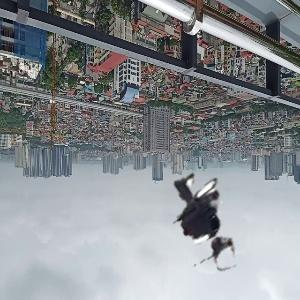drone: (143, 146, 277, 280)
